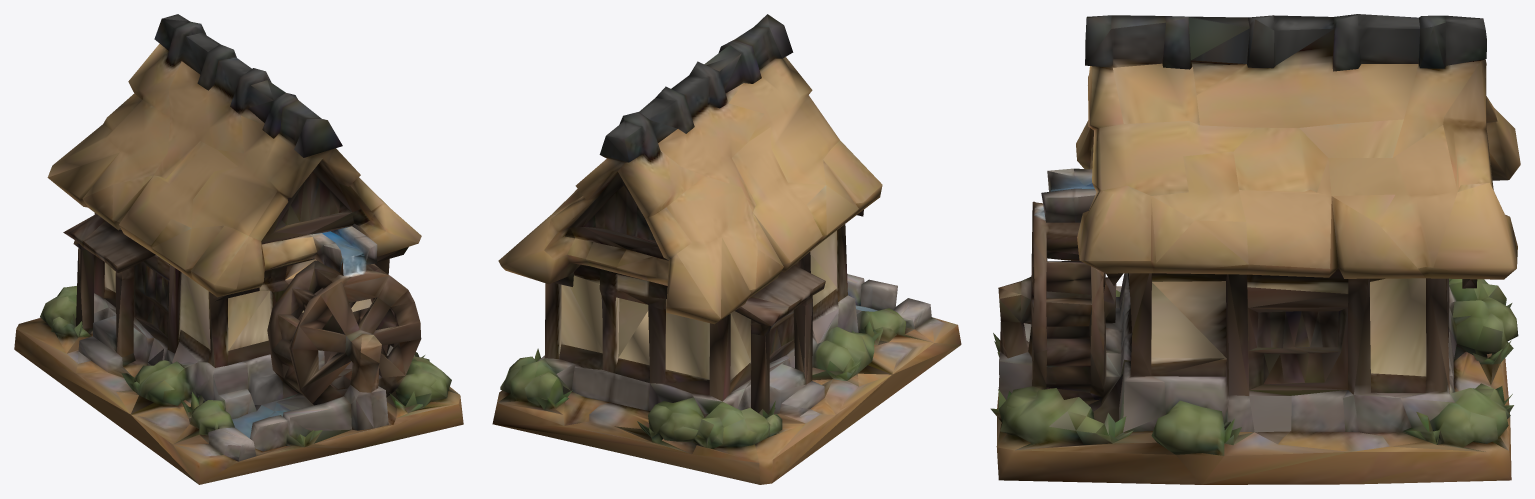
The model's file is watermill.glb.
The picture shows the model from 3 angles, left to right: view 1: azimuth 30°, elevation 25°; view 2: azimuth 150°, elevation 25°; view 3: azimuth 270°, elevation 25°; orthographic projection. The views are drawn at different scales.
Parts seen in each view (by area): view 1: tripo_node_b7a28f20-2358-48f2-b198-d42cd7bb8d62; view 2: tripo_node_b7a28f20-2358-48f2-b198-d42cd7bb8d62; view 3: tripo_node_b7a28f20-2358-48f2-b198-d42cd7bb8d62.
Part boxes in pixels (bbox=[...]): tripo_node_b7a28f20-2358-48f2-b198-d42cd7bb8d62: bbox=[14, 14, 463, 484]; tripo_node_b7a28f20-2358-48f2-b198-d42cd7bb8d62: bbox=[492, 14, 961, 484]; tripo_node_b7a28f20-2358-48f2-b198-d42cd7bb8d62: bbox=[990, 14, 1520, 484].
Size of the model in its own units: 0.7735 by 0.8124 by 0.982.
Materials: 1 (1 with a texture image).
